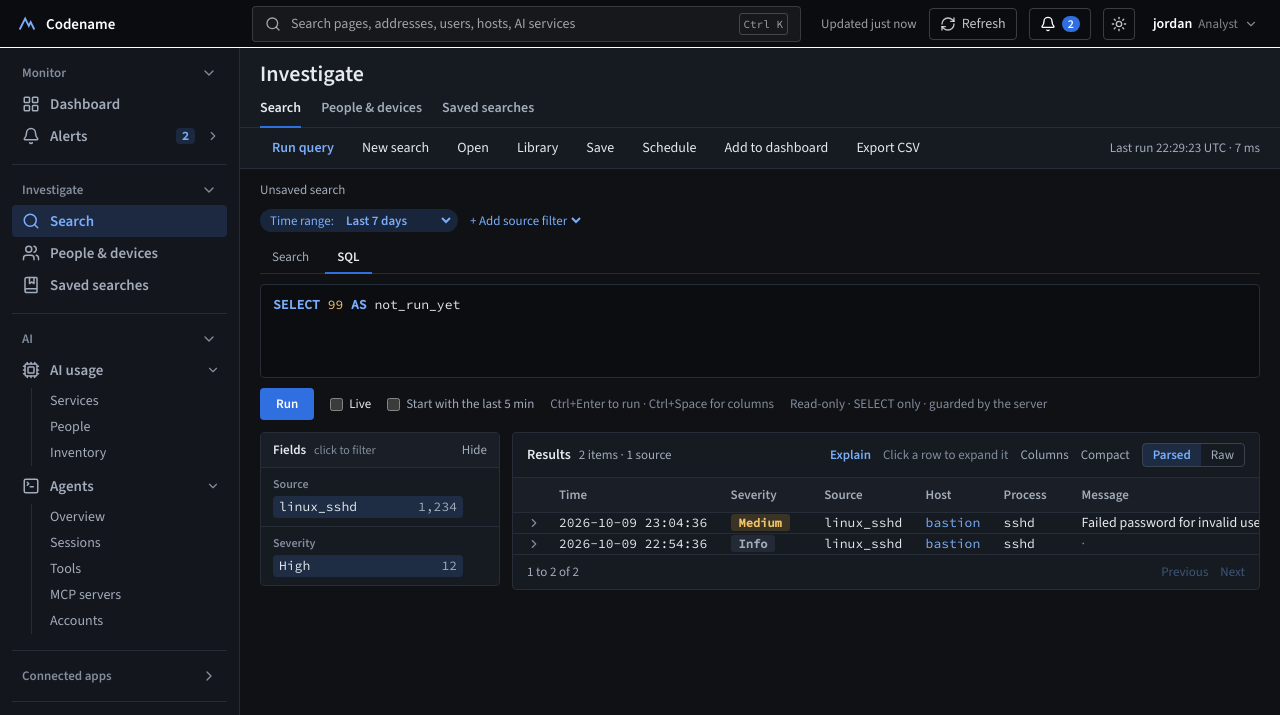
Scenario: New search (D90) › asks before discarding unsaved edits, then starts over with the defaults
This screenshot has width=1280, height=715.
expect the heading "Investigate" is shown: met, box [260,59,364,88]
Click the button "New search": (396, 148) [350,132,441,164]
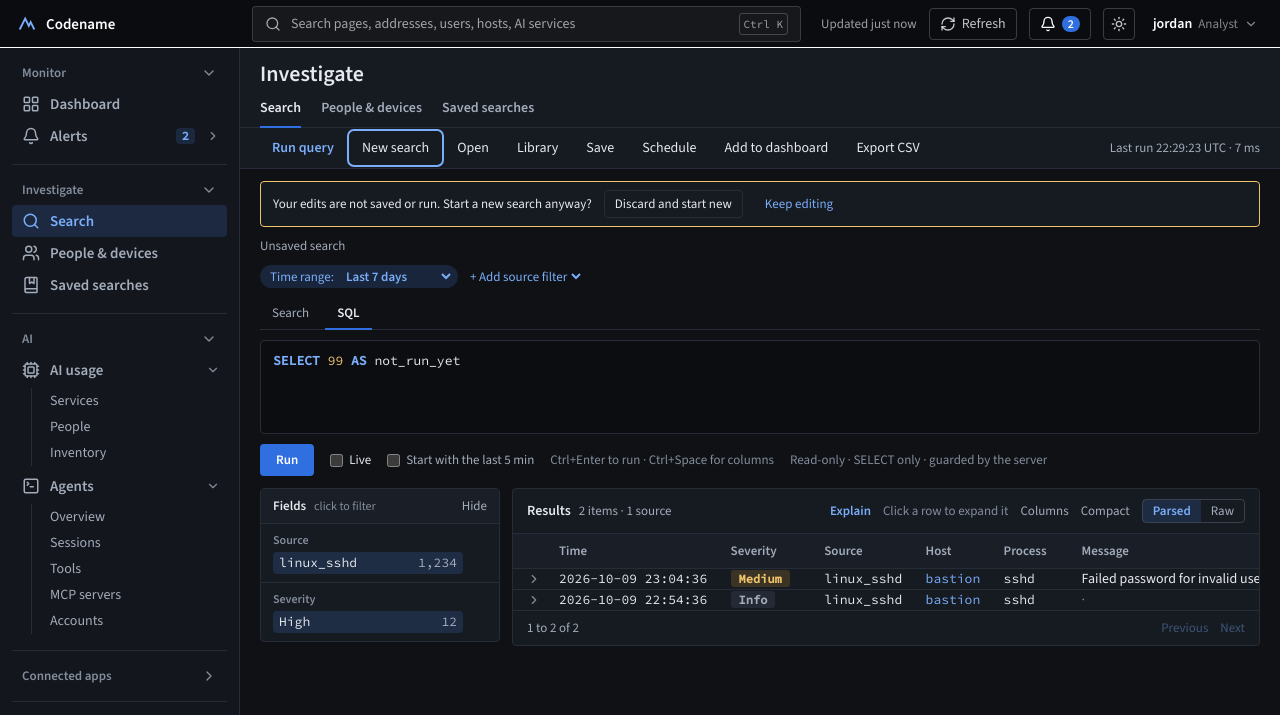
expect the dialog named "Discard unsaved edits" shows "Your edits are not saved or run.": met, box [273,195,592,212]
Click the button "Discard and start new": (673, 204) [604,190,743,218]
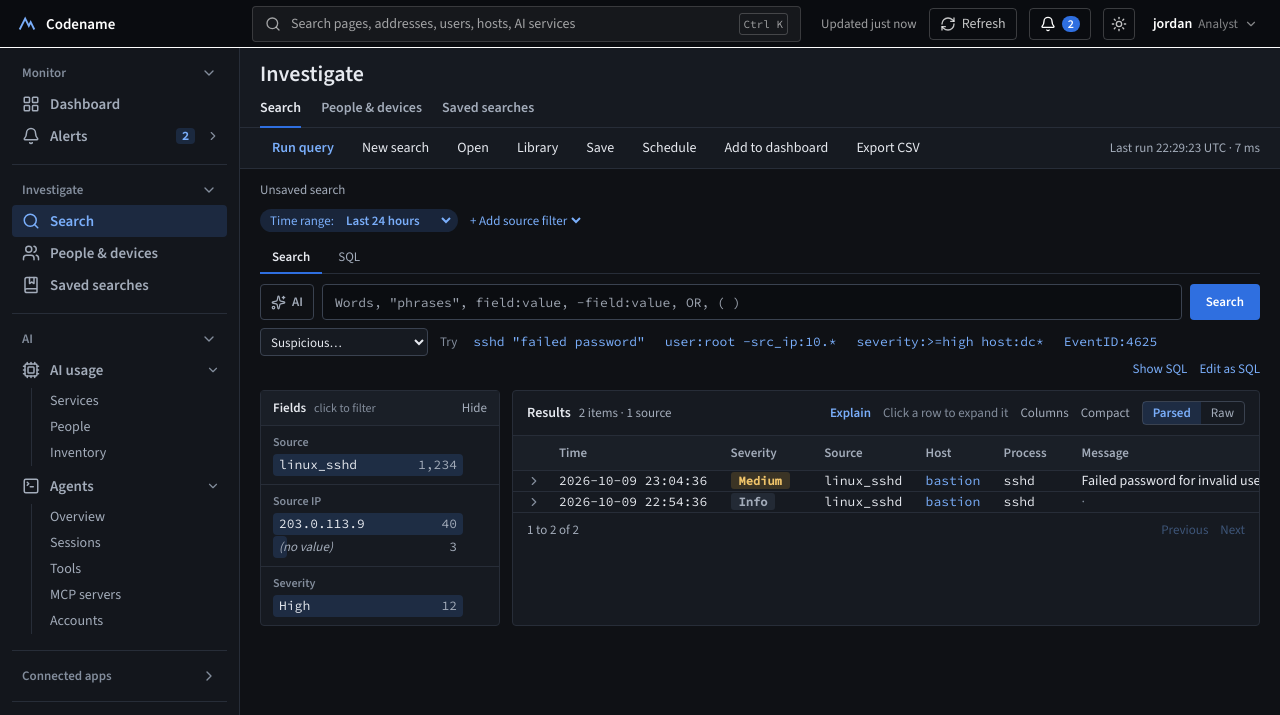
expect the text with test id "search-state" reads "Unsaved search": met, box [260,181,345,198]
expect the dropdown labelled "Time range" shows "Last 24 hours": met, box [342,211,454,230]
